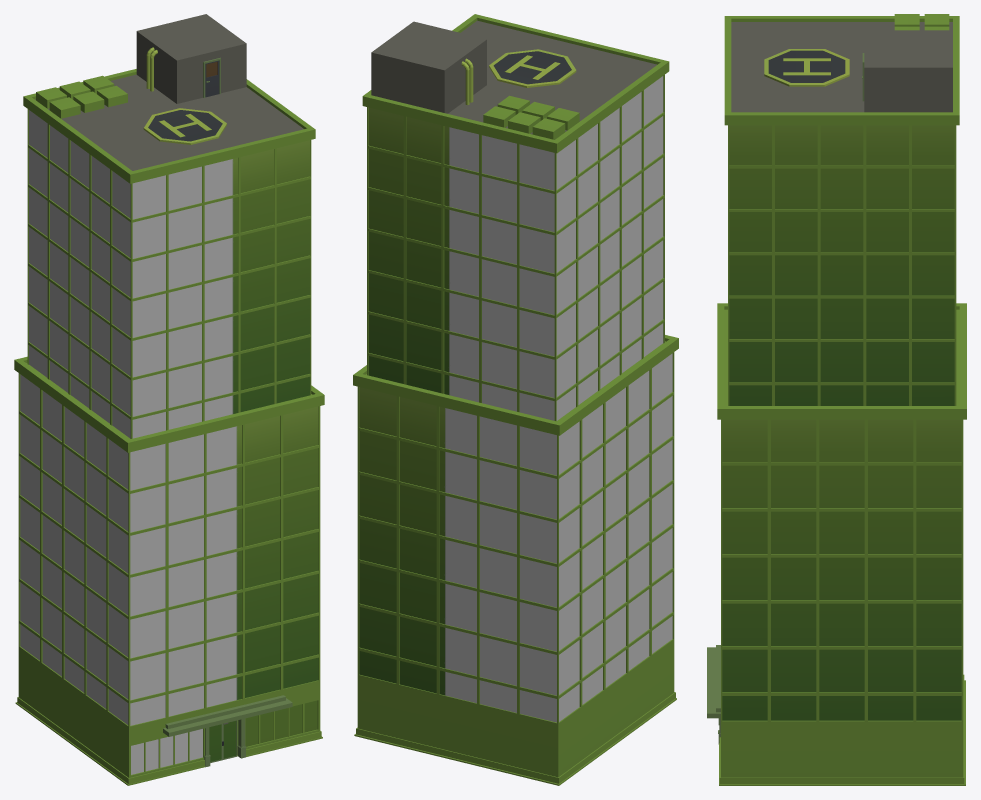
File: House_44.fbx
3 renders of one model, left to right at view 1: azimuth 30°, elevation 25°; view 2: azimuth 150°, elevation 25°; view 3: azimuth 270°, elevation 25°, orthographic. The views are drawn at different scales.
Parts seen in each view (by area): view 1: House_44; view 2: House_44; view 3: House_44.
Part boxes in pixels (x1,y1,x2,y2): House_44: (14, 14, 324, 785); House_44: (353, 14, 678, 785); House_44: (707, 14, 966, 785).
Bounding box in the file's own units: 11.98 × 37.76 × 12.47.
